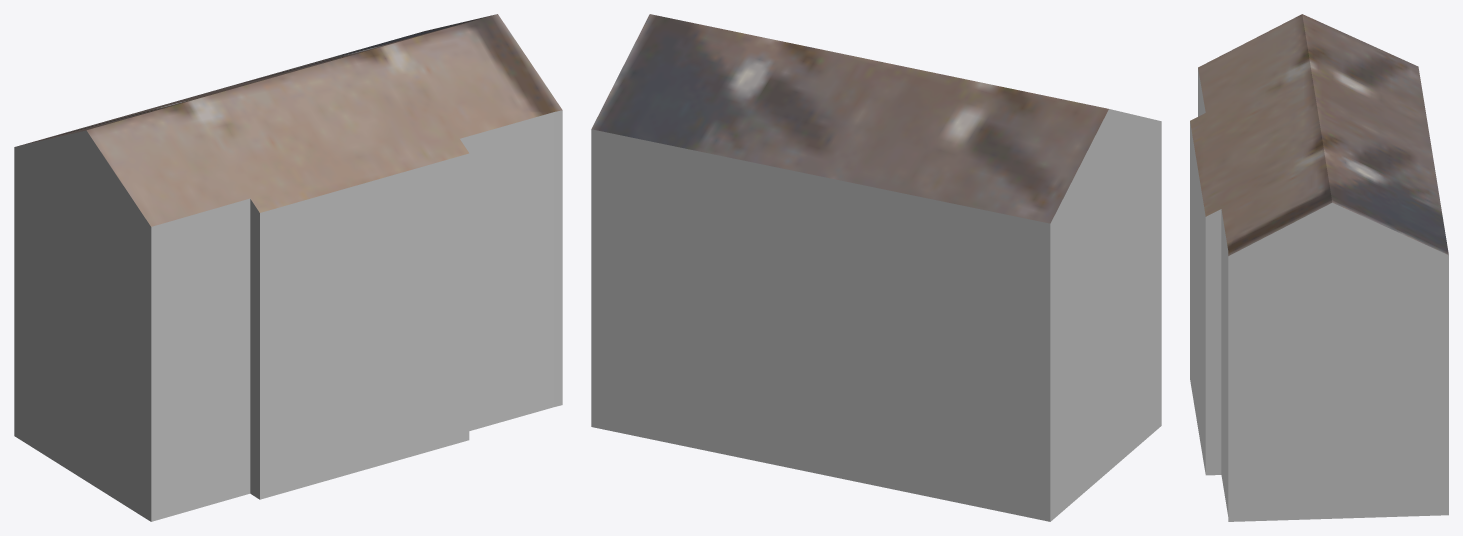
The model's file is DEBW_0010007Txit.gltf.
The picture shows the model from 3 angles, left to right: view 1: azimuth 30°, elevation 25°; view 2: azimuth 150°, elevation 25°; view 3: azimuth 270°, elevation 25°; orthographic projection. The views are drawn at different scales.
Visible parts, largest first — view 1: Z_UP; view 2: Z_UP; view 3: Z_UP.
Part boxes in pixels (box(x1,y1,x2,y2)): Z_UP: box(14, 14, 562, 521); Z_UP: box(591, 14, 1161, 521); Z_UP: box(1190, 14, 1448, 521).
Bounding box in the file's own units: 19.08 × 14.44 × 10.71.
Materials: 2 (1 with a texture image).
